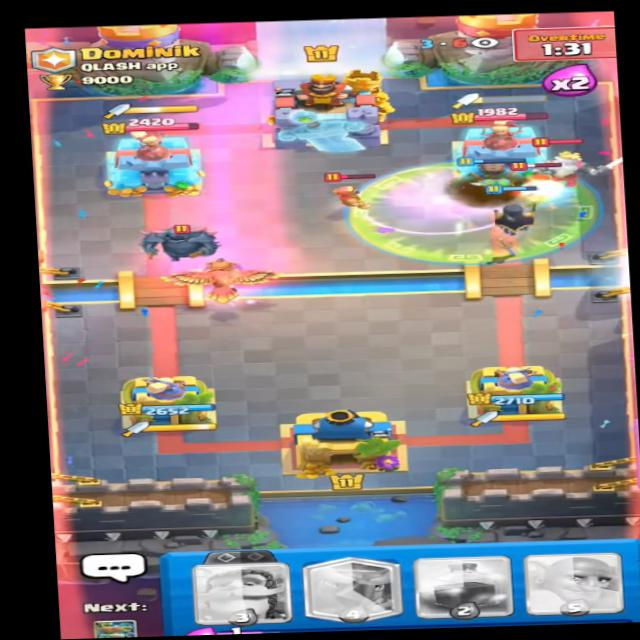pekka: (134, 214, 227, 266)
royal-ghost: (528, 137, 598, 190)
wizard: (320, 170, 372, 208)
